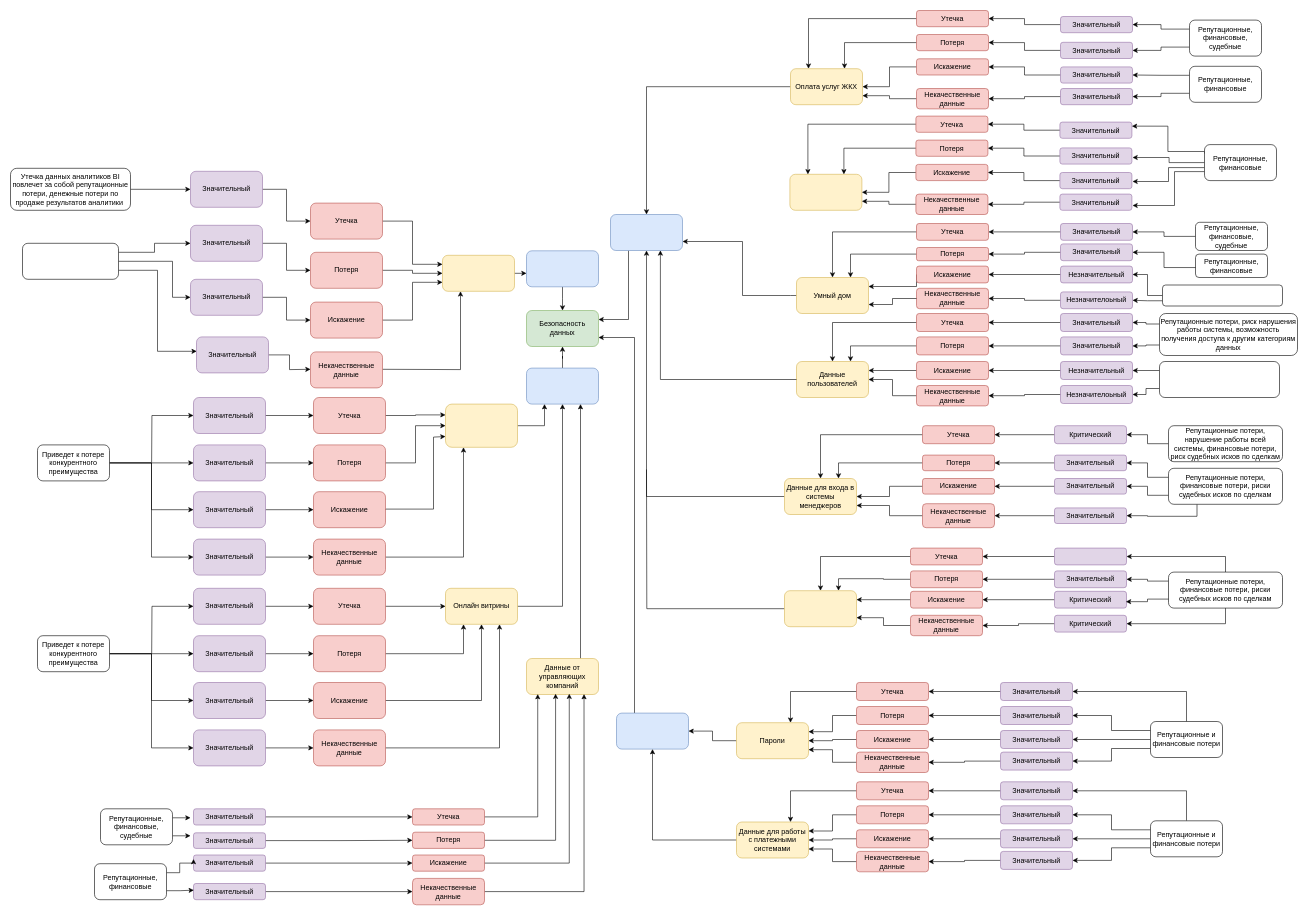
This 1308x916 diagram has some shape labels left out. Each missing label, with the centre of its shape:
"Бухгалтерия компании" belongs at (x=825, y=192).
"Внутренние данные" belongs at (x=562, y=268).
"Данные для аналитики BI" belongs at (x=478, y=273).
"Данные для проведения онлайн сделок по недвижимости" belongs at (x=820, y=608).
"Конфиденциальные данные" belongs at (x=646, y=232).
"Кратковременное нарушение обслуживания пользователей" belongs at (x=1219, y=379).
"Кратковременное нарушение пользовательских сценариев" belongs at (x=1222, y=295).
"Критичсеский" belongs at (x=1090, y=556).
"Онлайн-туры" belongs at (x=481, y=425).
"Потеря качества аналитики, репутационные и денежные потери от клиентов" belongs at (x=70, y=261).
"Публичные данные" belongs at (x=562, y=386).
"Секретные данные" belongs at (x=652, y=730).
